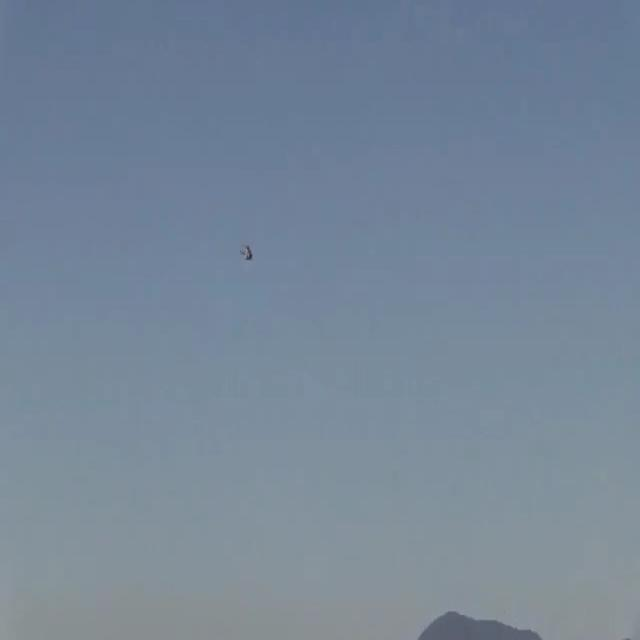Helicopter: (224, 229, 273, 270)
